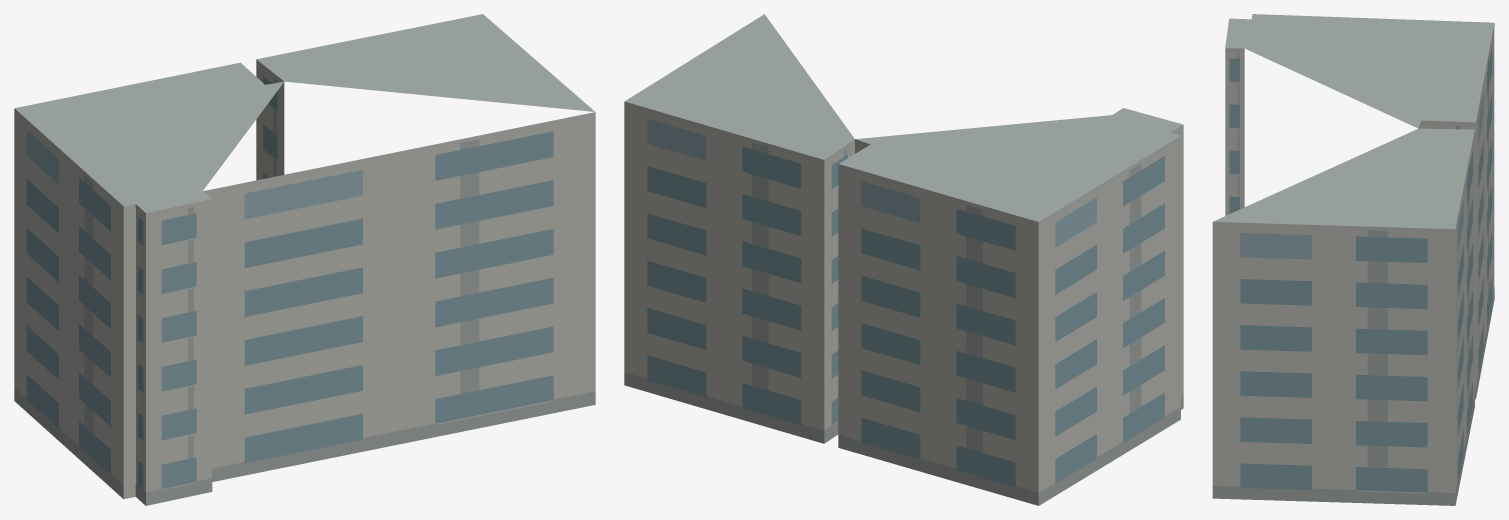
The model's file is survey-upis-32838652.glb.
3 views of the same model, side by side, from view 1: azimuth 30°, elevation 25°; view 2: azimuth 150°, elevation 25°; view 3: azimuth 270°, elevation 25° (orthographic). The views are drawn at different scales.
Parts seen in each view (by area): view 1: survey-upis-32838652.tmp; view 2: survey-upis-32838652.tmp; view 3: survey-upis-32838652.tmp.
Part boxes in pixels (x1=…): survey-upis-32838652.tmp: x1=14, y1=14, x2=595, y2=505; survey-upis-32838652.tmp: x1=624, y1=14, x2=1183, y2=505; survey-upis-32838652.tmp: x1=1212, y1=14, x2=1494, y2=505.
Bounding box in the file's own units: 30.54 × 18.3 × 16.91.
